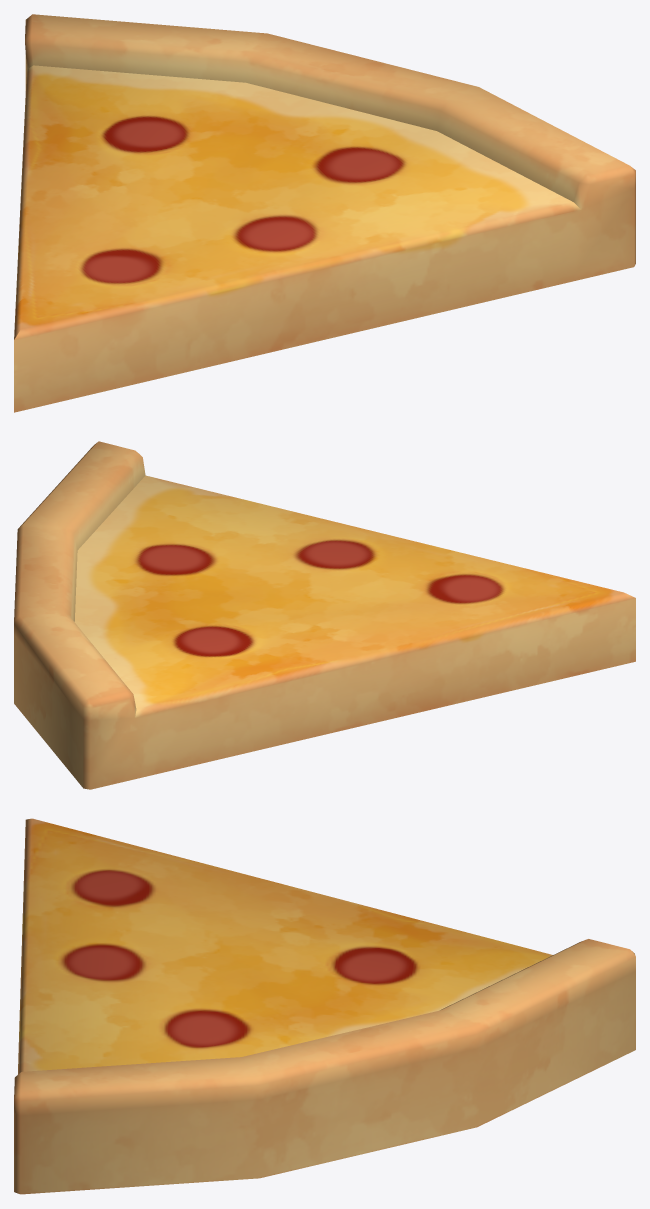
Rendered from PizzaSlice4.fbx.
3 views of the same model, one above another, from view 1: azimuth 30°, elevation 25°; view 2: azimuth 150°, elevation 25°; view 3: azimuth 270°, elevation 25° (orthographic). The views are drawn at different scales.
Parts seen in each view (by area): view 1: PizzaSlice4; view 2: PizzaSlice4; view 3: PizzaSlice4.
Part boxes in pixels (x1,y1,x2,y2): PizzaSlice4: (14,14,635,412); PizzaSlice4: (14,441,635,789); PizzaSlice4: (14,818,635,1194).
Bounding box in the file's own units: 99.84 × 15.28 × 86.78.
Materials: 1 (1 with a texture image).
